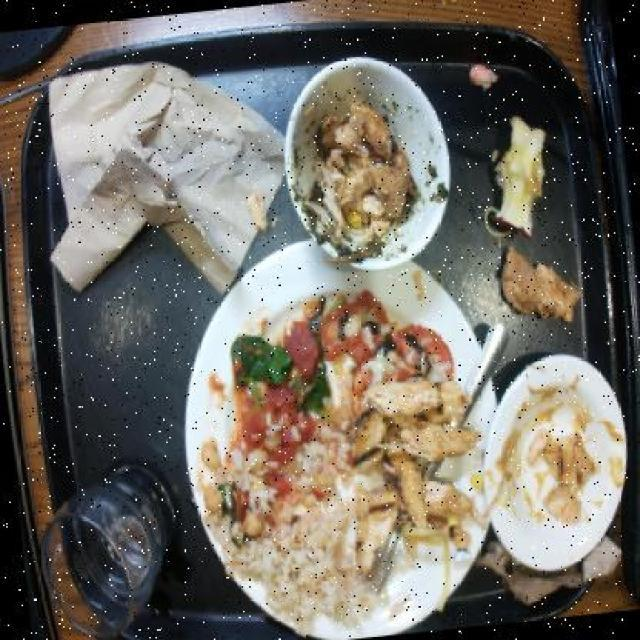Anorganik: (269, 46, 465, 284), (466, 342, 640, 580), (471, 328, 508, 406)
Organik: (216, 301, 463, 607), (306, 95, 419, 253)
